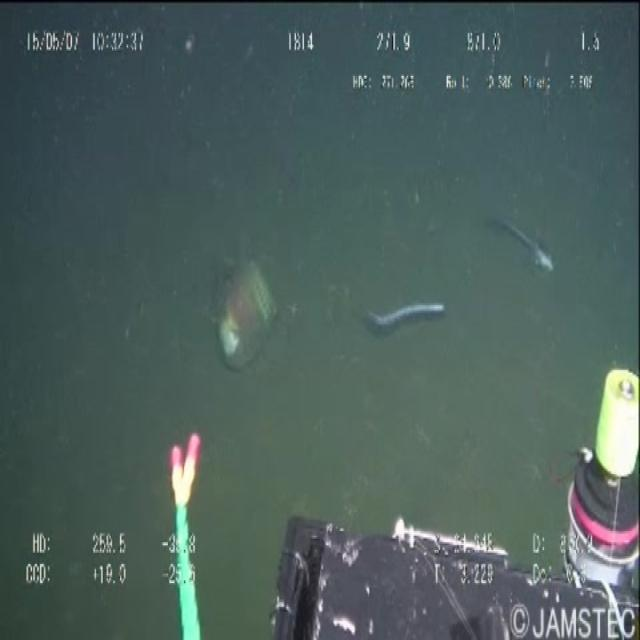Cutlery: (202, 267, 296, 393)
